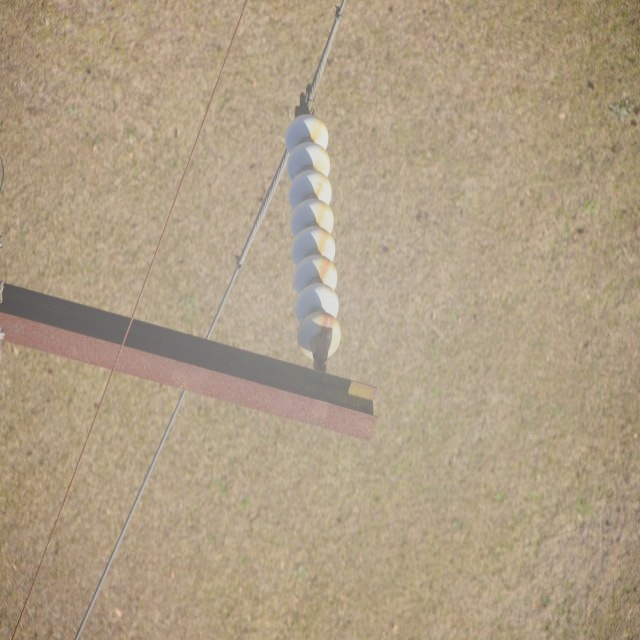insulator: (286, 114, 344, 361)
